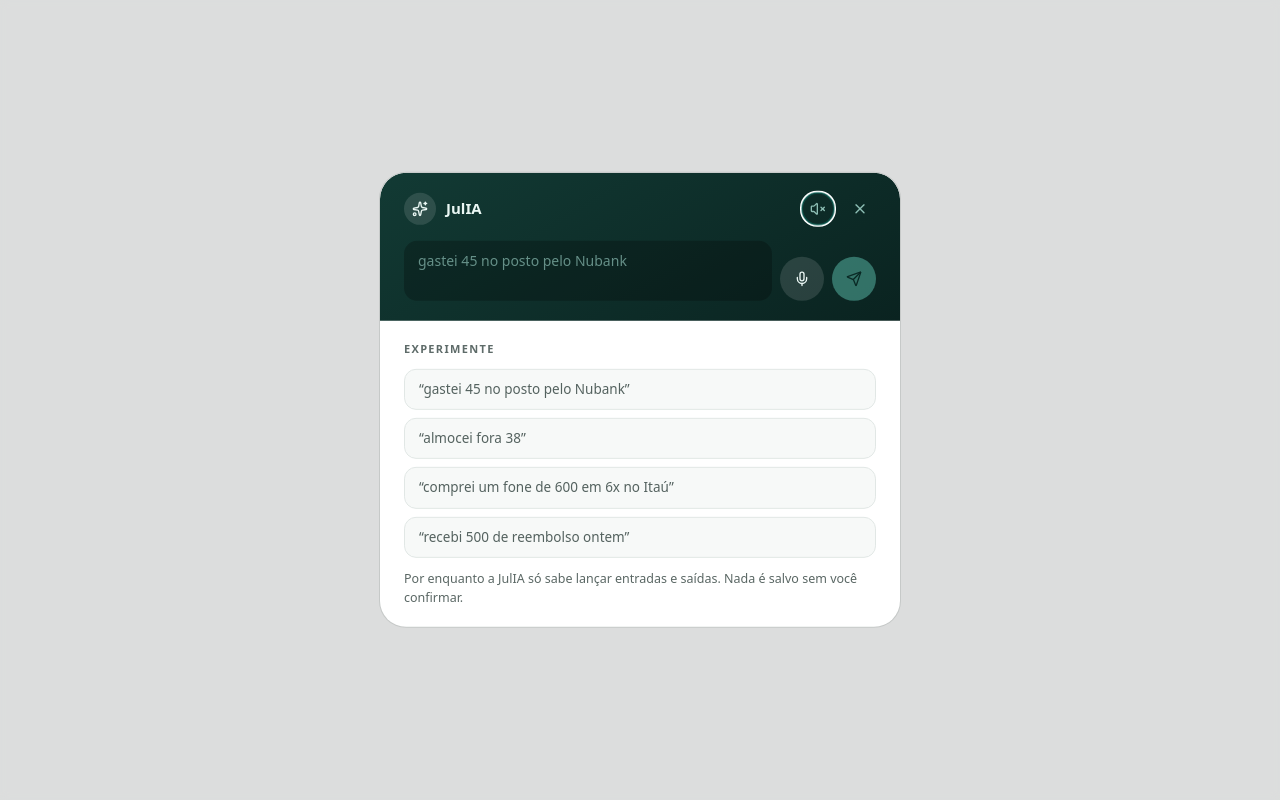
Scenario: AssistantSheet › não salva nada só por interpretar — espera a confirmação
Type "gastei 45 no posto" into the text box with placeholder "gastei 45 no posto pelo Nubank" at (588, 271), box top-left (404, 241), bottom-right (772, 301)
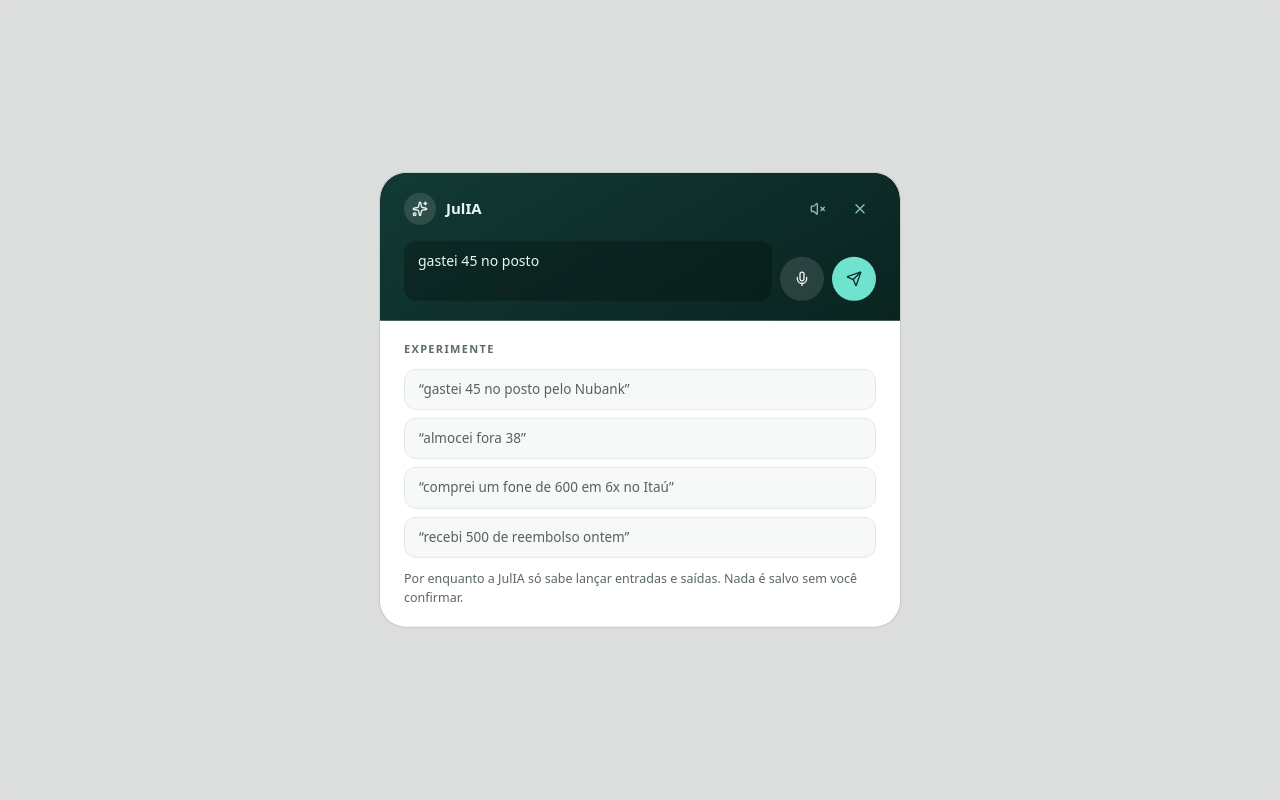
Click the button named "Enviar" at (854, 279), box top-left (832, 257), bottom-right (876, 301)
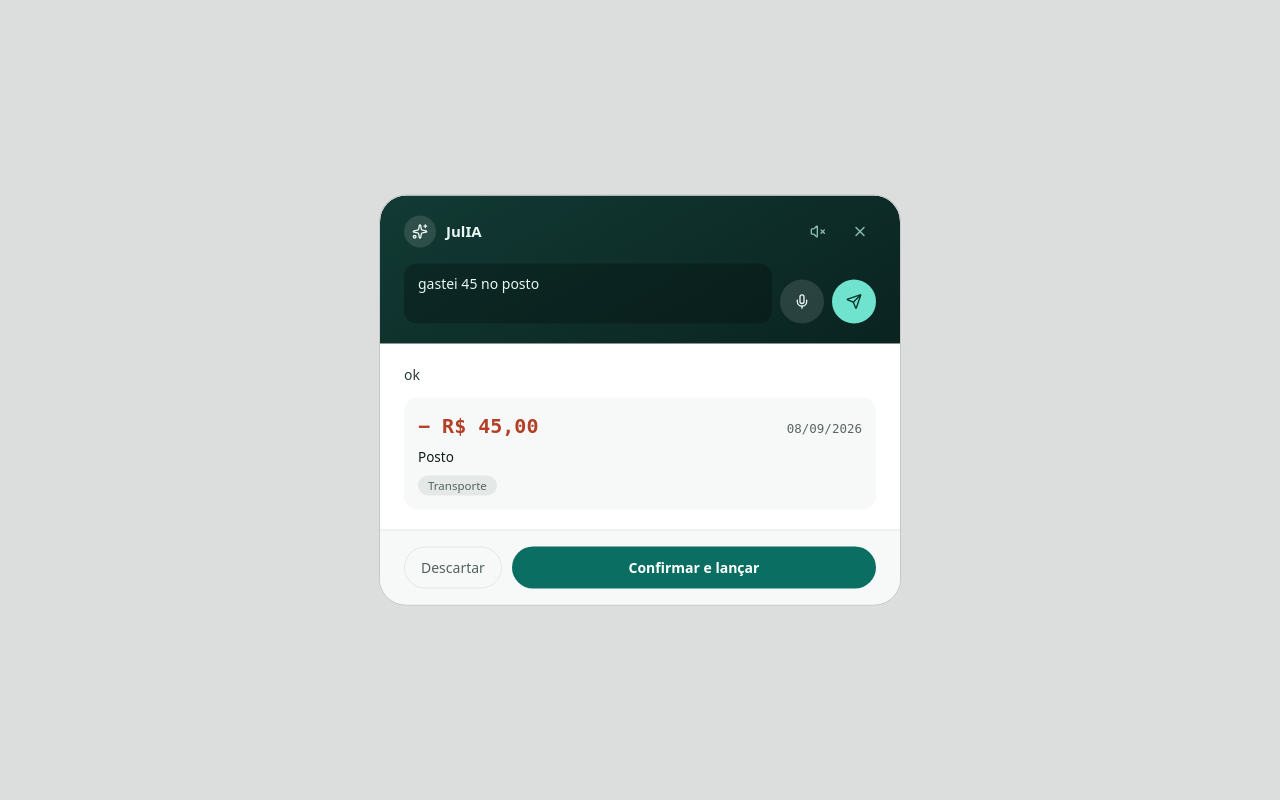
expect the button "Confirmar e lançar" is shown: met, box top-left (512, 546), bottom-right (876, 588)
